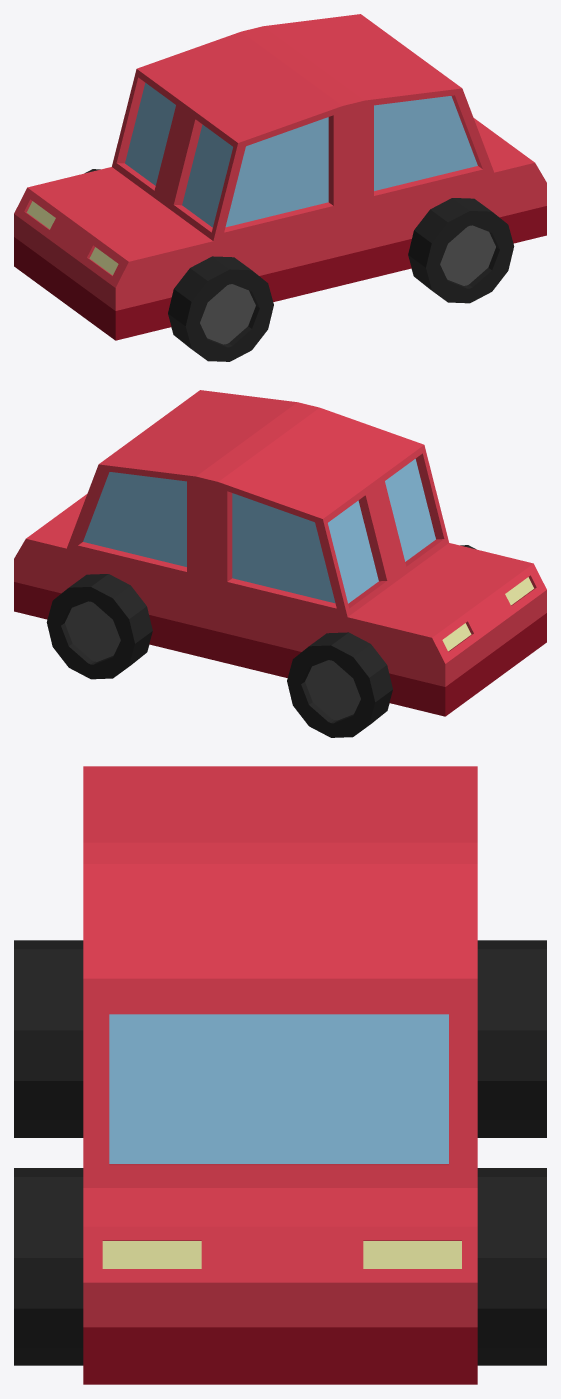
Rendered from CAR01_Model.fbx.
The picture shows the model from 3 angles, top to bottom: view 1: azimuth 30°, elevation 25°; view 2: azimuth 150°, elevation 25°; view 3: azimuth 270°, elevation 25°; orthographic projection. The views are drawn at different scales.
Visible parts, largest first — view 1: CAR, WHEELS; view 2: CAR, WHEELS; view 3: CAR, WHEELS.
Boxes of the visible parts, x1=… form: CAR: x1=14, y1=14, x2=546, y2=340; WHEELS: x1=84, y1=169, x2=514, y2=361; CAR: x1=14, y1=390, x2=546, y2=716; WHEELS: x1=46, y1=545, x2=476, y2=737; CAR: x1=83, y1=766, x2=477, y2=1384; WHEELS: x1=14, y1=940, x2=546, y2=1365.
Bounding box in the file's own units: 4.9 × 2.29 × 2.7.
